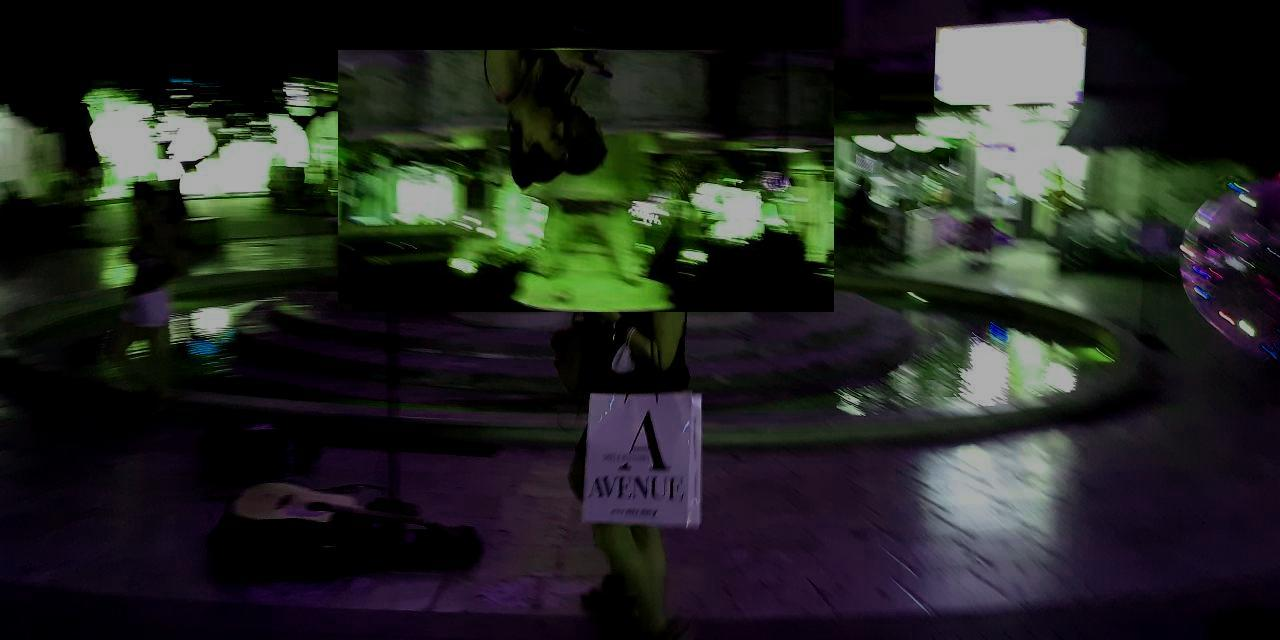Liontaria: (339, 51, 835, 313)
